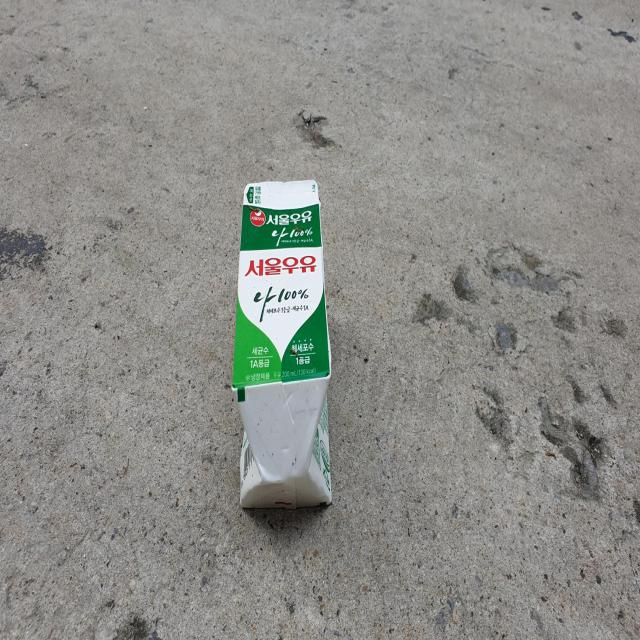paperpack: (231, 178, 332, 508)
